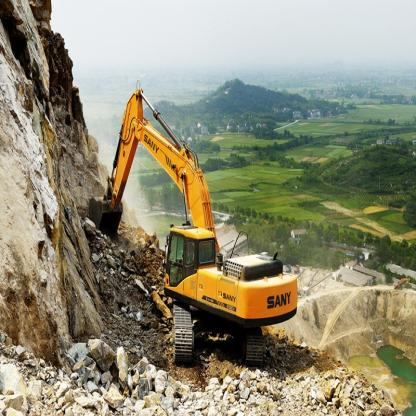excavator: (78, 75, 302, 375)
